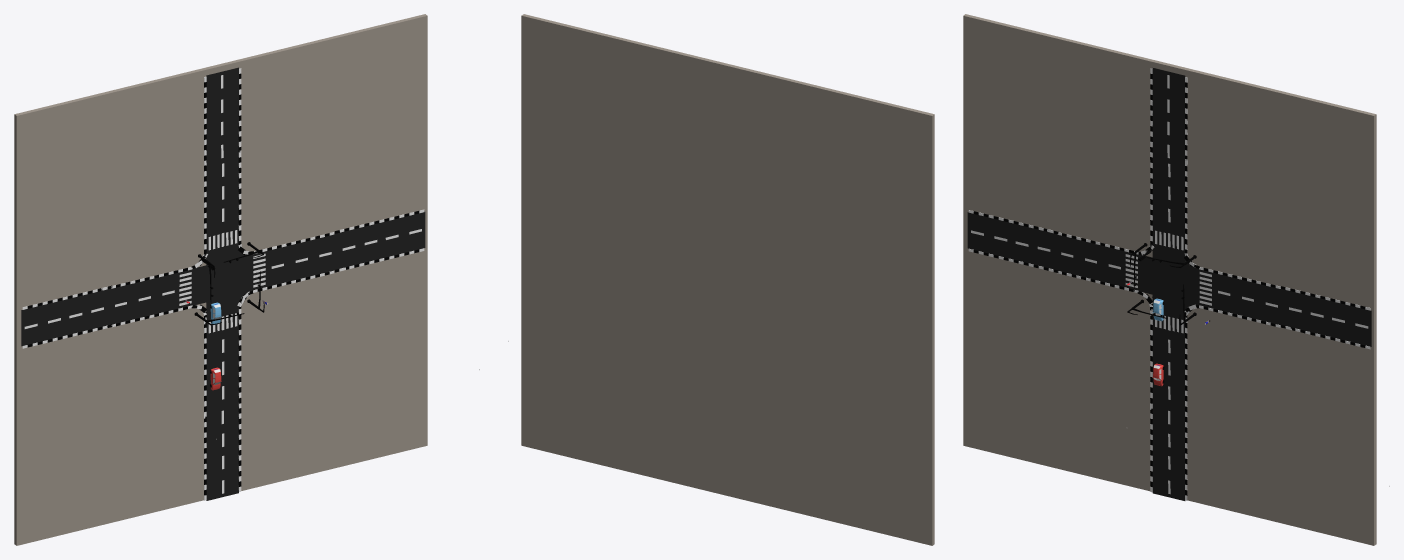
The model's file is daochu_try.fbx.
3 renders of one model, left to right at view 1: azimuth 30°, elevation 25°; view 2: azimuth 150°, elevation 25°; view 3: azimuth 330°, elevation 25°, orthographic.
Visible parts, largest first — view 1: Ground, Plane.001, Plane.003, Plane.002, Plane.331, Plane.332, Plane.086, Plane.329, Plane.328, Plane.333; view 2: Ground; view 3: Ground, Plane.001, Plane.003, Plane.331, Plane.002, Plane.332, Plane.086, Plane.329, Plane.328, Plane.333.
Part boxes in pixels (left/top/right/bottom): Ground: left=14, top=14, right=427, bottom=545; Plane.001: left=21, top=285, right=117, bottom=348; Plane.003: left=329, top=209, right=425, bottom=272; Plane.002: left=204, top=67, right=241, bottom=171; Plane.331: left=229, top=236, right=334, bottom=297; Plane.332: left=110, top=265, right=206, bottom=324; Plane.086: left=206, top=399, right=238, bottom=500; Plane.329: left=206, top=161, right=238, bottom=257; Plane.328: left=206, top=302, right=238, bottom=406; Plane.333: left=206, top=247, right=238, bottom=311; Ground: left=521, top=14, right=934, bottom=545; Ground: left=963, top=14, right=1376, bottom=545; Plane.001: left=967, top=210, right=1063, bottom=272; Plane.003: left=1275, top=286, right=1371, bottom=349; Plane.331: left=1176, top=262, right=1280, bottom=324; Plane.002: left=1150, top=68, right=1187, bottom=175; Plane.332: left=1056, top=234, right=1152, bottom=294; Plane.086: left=1152, top=399, right=1185, bottom=500; Plane.329: left=1152, top=157, right=1185, bottom=261; Plane.328: left=1152, top=299, right=1184, bottom=406; Plane.333: left=1152, top=243, right=1185, bottom=314.
Size of the model in its own units: 10822 by 10032 by 866.
